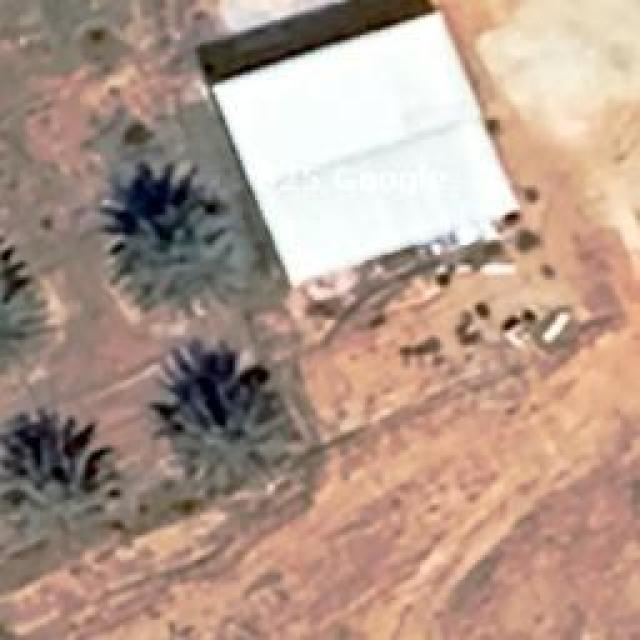PalmTree: (2, 415, 122, 543), (111, 188, 239, 303), (167, 380, 285, 490), (0, 232, 63, 384)
